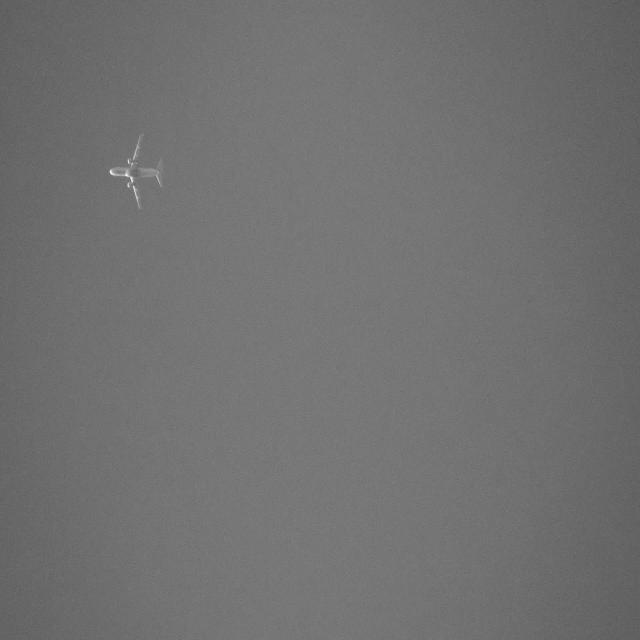aeroplane: (109, 128, 168, 215)
